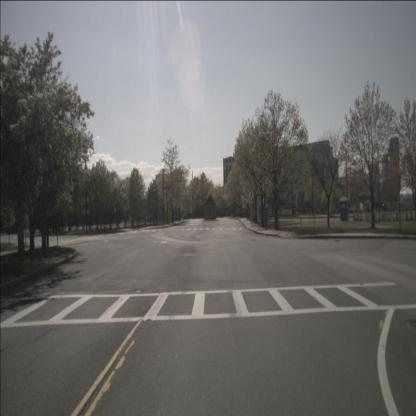human-pedestrian-adult: (264, 207, 268, 230)
